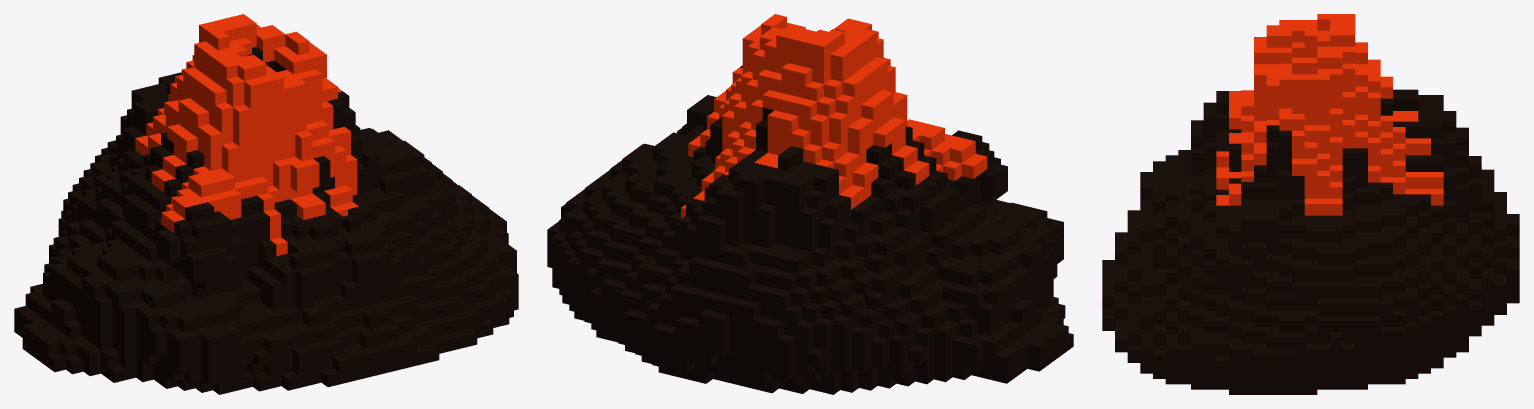
Rendered from volcan.fbx.
The picture shows the model from 3 angles, left to right: view 1: azimuth 30°, elevation 25°; view 2: azimuth 150°, elevation 25°; view 3: azimuth 270°, elevation 25°; orthographic projection. The views are drawn at different scales.
Parts seen in each view (by area): view 1: volcan; view 2: volcan; view 3: volcan.
Boxes of the visible parts, left/top/right/bottom form: volcan: left=14, top=14, right=518, bottom=394; volcan: left=547, top=14, right=1073, bottom=394; volcan: left=1102, top=14, right=1519, bottom=394.
Size of the model in its own units: 400 by 230 by 330.
